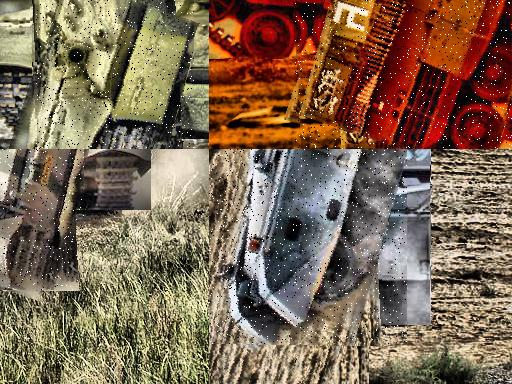tanks: (224, 150, 408, 345), (296, 1, 512, 150), (37, 1, 194, 150), (1, 150, 76, 291)
